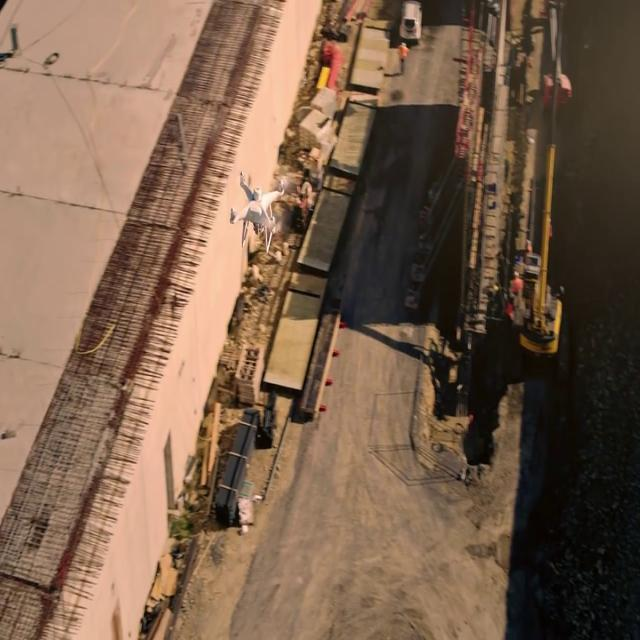drone: (226, 167, 292, 248)
